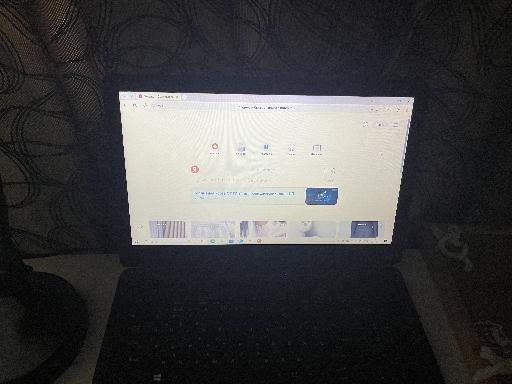yandex: (122, 109, 396, 242)
